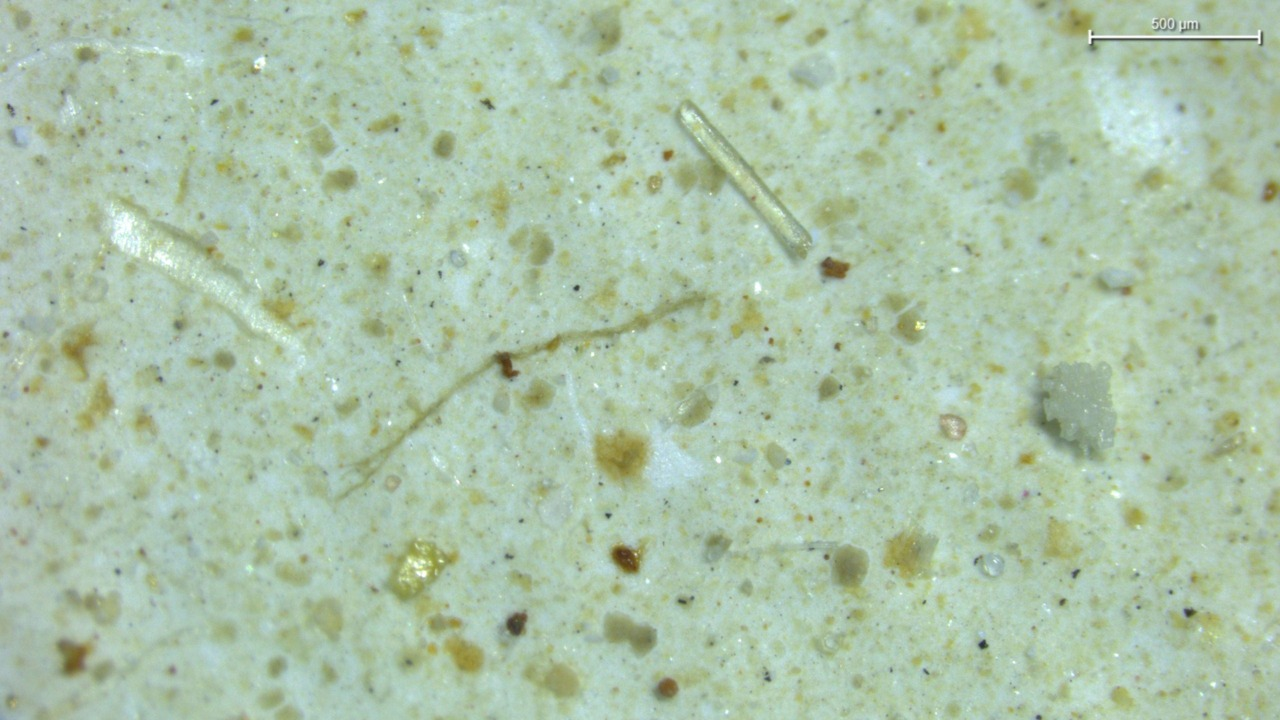microplastic_fragment: (106, 202, 304, 364), (1040, 362, 1116, 452), (391, 540, 455, 596), (790, 56, 835, 88)
